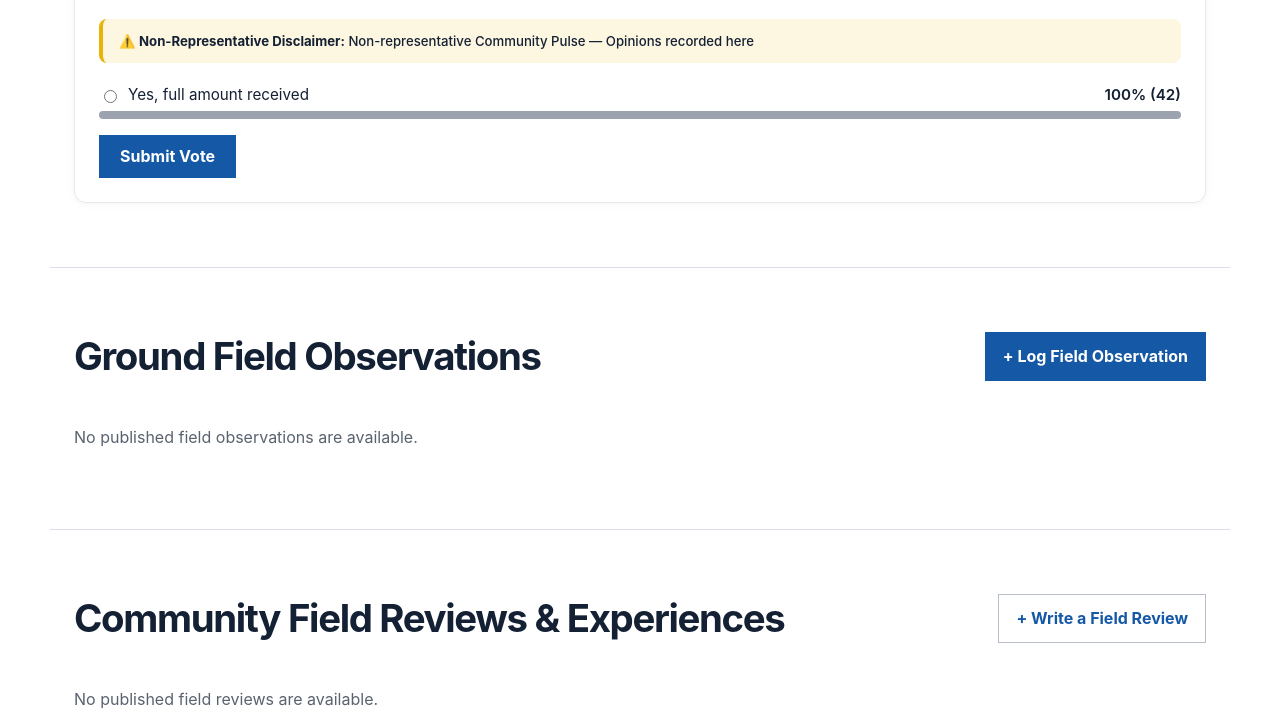
CommunityContent › keeps a newly submitted observation out of the public list
(page scrolled)
Click the button "+ Log Field Observation": (1095, 356) [985,332,1206,381]
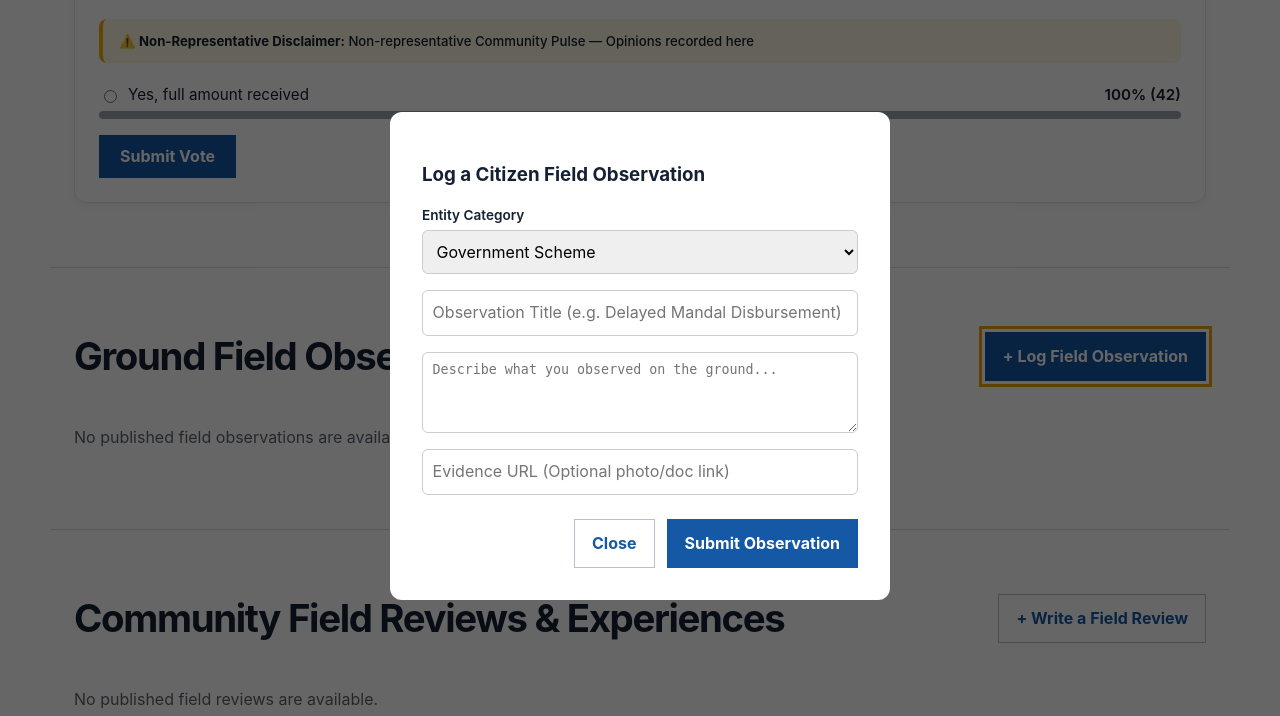
In the field with placeholder "Observation Title (e.g. Delayed Mandal Disbursement)": (640, 313) [422,290,858,336], type "Pending test observation"
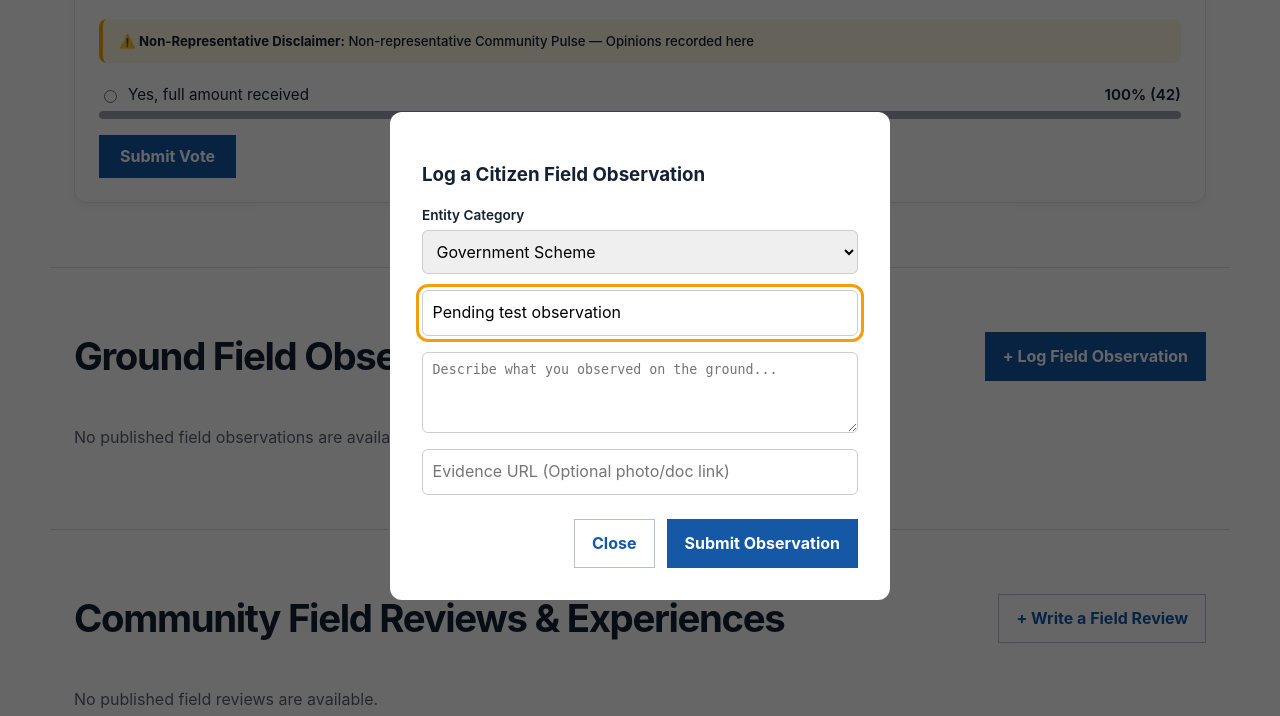
In the text box with placeholder "Describe what you observed on the ground...": (640, 392) [422,352,858,433], type "Awaiting moderator review"
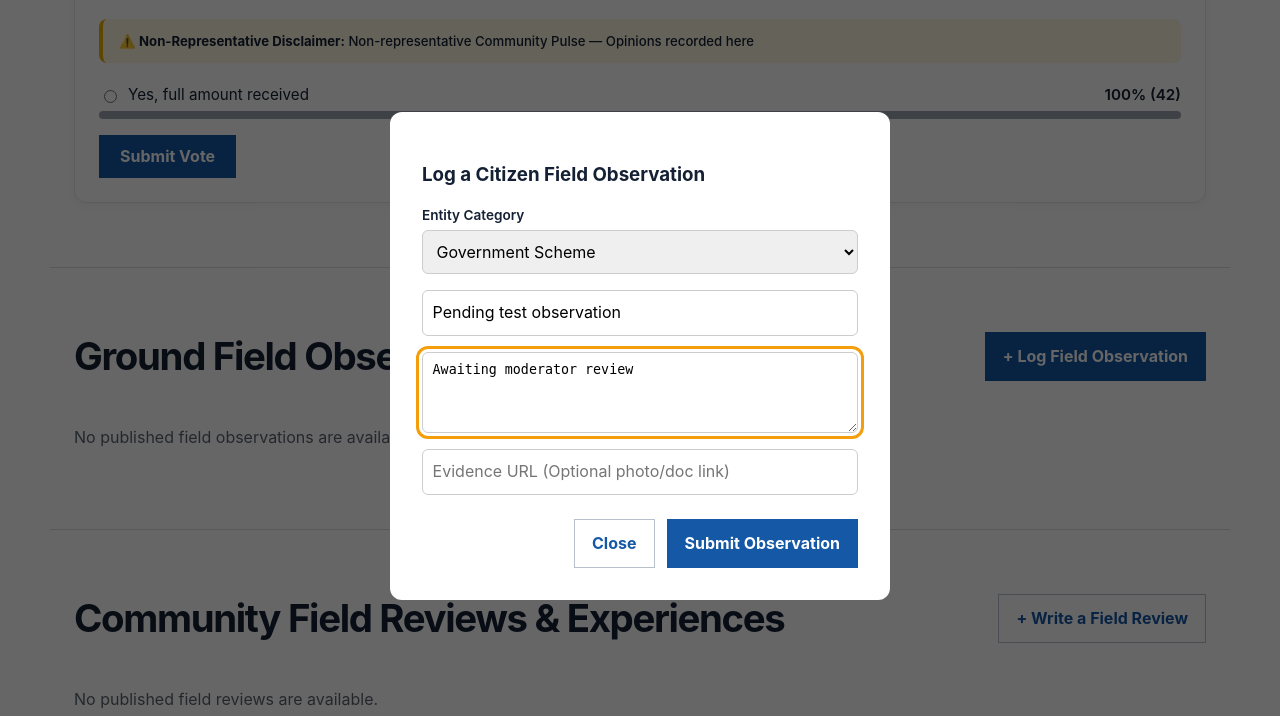
Click the button "Submit Observation": (762, 543) [666,519,858,568]
(page scrolled)
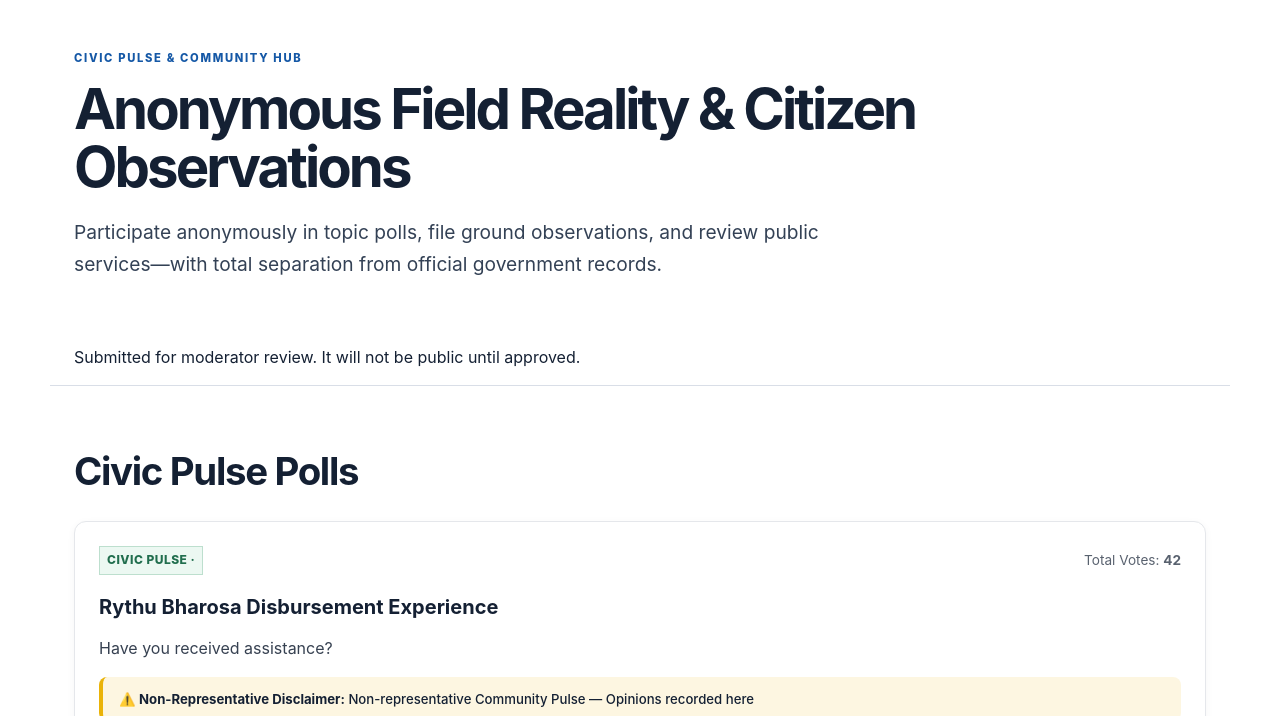
Check: the text "Pending test observation" is not shown
Check: the text "Submitted for moderator review. It will not be public until approved." is shown, box [74,347,580,367]
